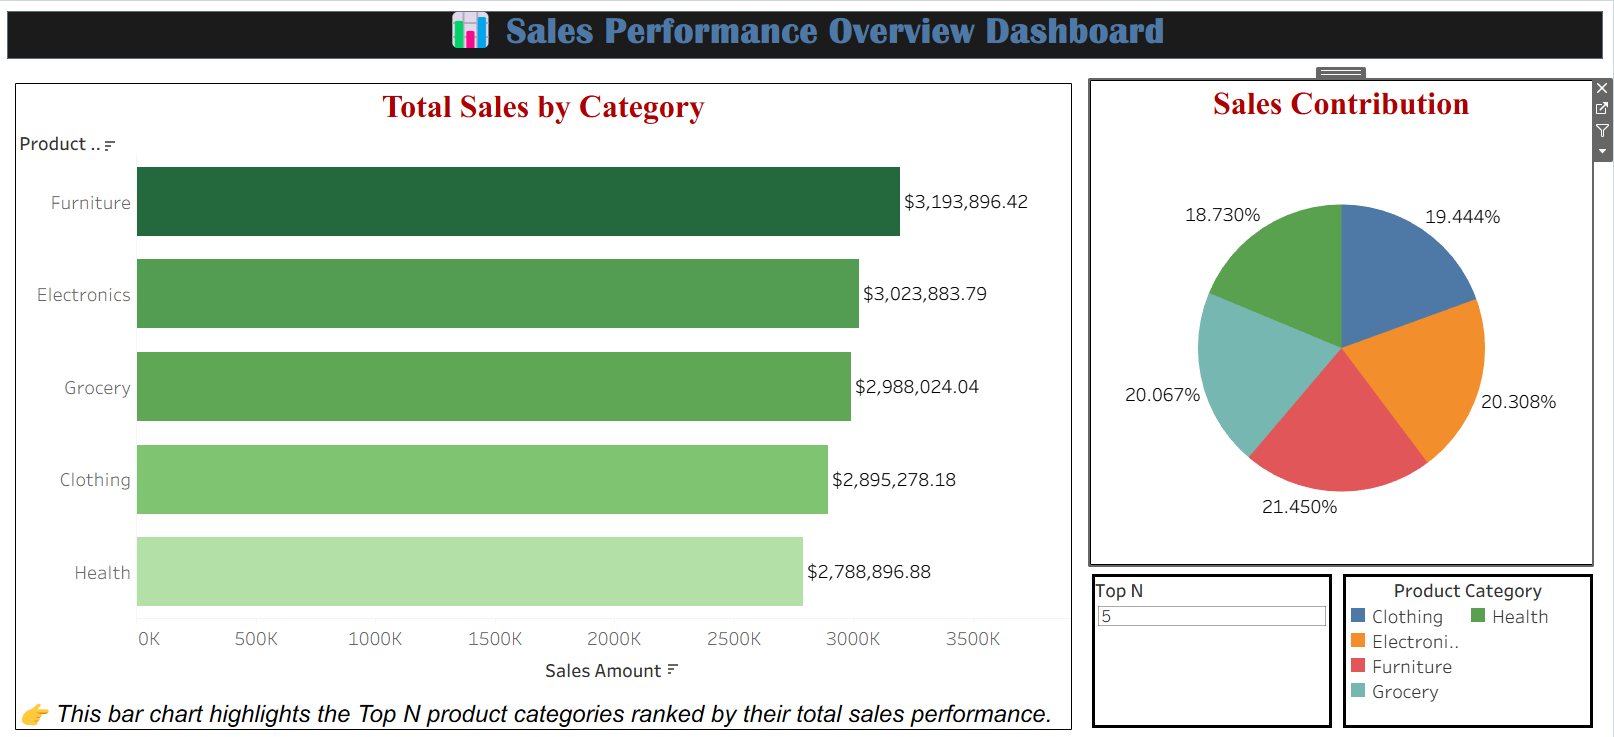

The page's visual inventory and layout, read from the dashboard file:
{"tool":"tableau","page":{"name":"Dashboard 1","canvas":[1000,1000],"units":"permille","ordinal":0},"visuals":[{"type":"title","box":[4.9,10.7,990.1,75]},{"type":"worksheet","title":"Sales_Contribution","mark":"Pie","box":[675.7,108.6,310.3,648.8]},{"type":"worksheet","title":"Sales_by_Category","mark":"Automatic","rows":["Product_Category"],"cols":["Sales_Amount"],"box":[12.5,112.6,652.7,866]},{"type":"parameter","param":"[Parameters].[Parameter 3]","box":[677,769.4,148.2,206.4]},{"type":"legend","title":"Sales_Contribution","param":"[federated.1p3hfms09x3x5h1clktr105m0rjh].[none:Product_Category:nk]","box":[832.2,769.4,154.5,206.4]}]}

Visuals, with their boxes on the dashboard's canvas, which has no fixed pixel size, in thousandths of its width and height (x1, y1, x2, y2). These are canvas units, not pixel positions in the 1614x737 screenshot, which may show the page scaled, cropped or inside an application window:
title: locate(5, 11, 995, 86)
"Sales_Contribution" worksheet (Pie marks): locate(676, 109, 986, 757)
"Sales_by_Category" worksheet: locate(12, 113, 665, 979)
parameter: locate(677, 769, 825, 976)
"Sales_Contribution" legend: locate(832, 769, 987, 976)
